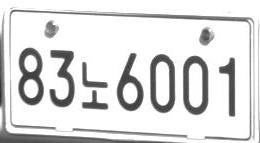0: (181, 54, 208, 115), (149, 53, 176, 113)
1: (216, 57, 243, 117)
3: (49, 49, 74, 107)
6: (115, 52, 144, 111)
8: (18, 47, 44, 106)
노: (81, 61, 108, 110)
